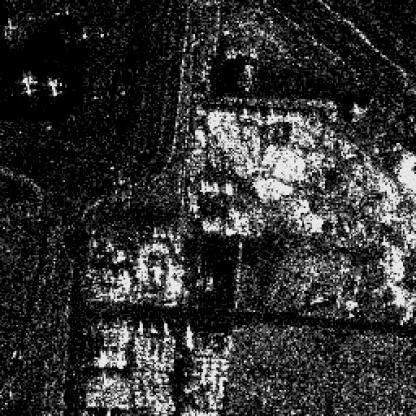airplane: (42, 72, 65, 99), (0, 13, 20, 44), (18, 72, 39, 99)
